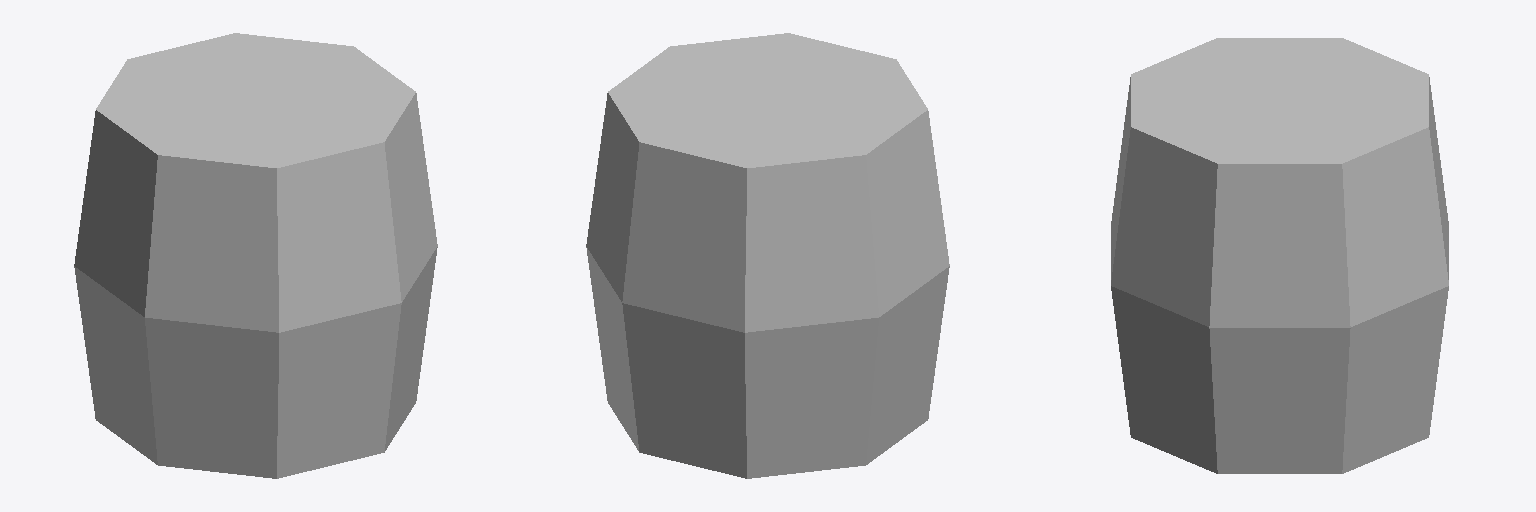
File: bochka_001.obj
3 renders of one model, left to right at view 1: azimuth 30°, elevation 25°; view 2: azimuth 150°, elevation 25°; view 3: azimuth 270°, elevation 25°, orthographic.
Parts seen in each view (by area): view 1: Бочка.001; view 2: Бочка.001; view 3: Бочка.001.
Part boxes in pixels (bbox=[...]): Бочка.001: bbox=[74, 33, 437, 478]; Бочка.001: bbox=[586, 33, 949, 478]; Бочка.001: bbox=[1111, 38, 1448, 473].
Bounding box in the file's own units: 0.7604 × 0.7699 × 0.7604.